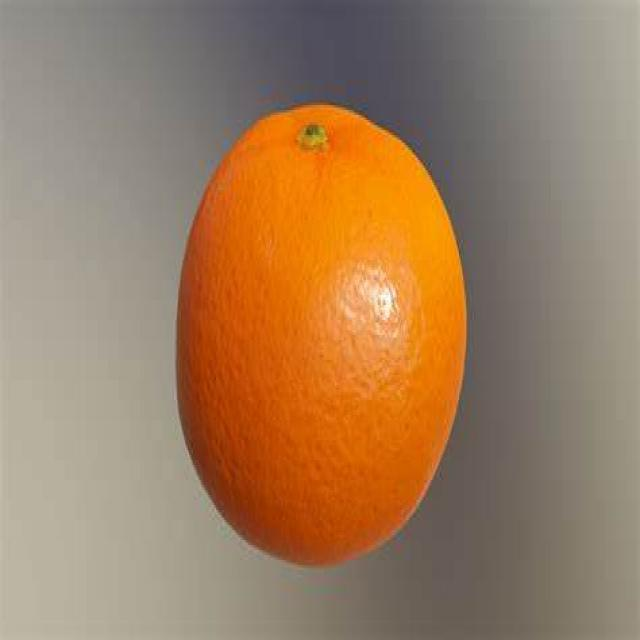Orange: (175, 95, 470, 565)
